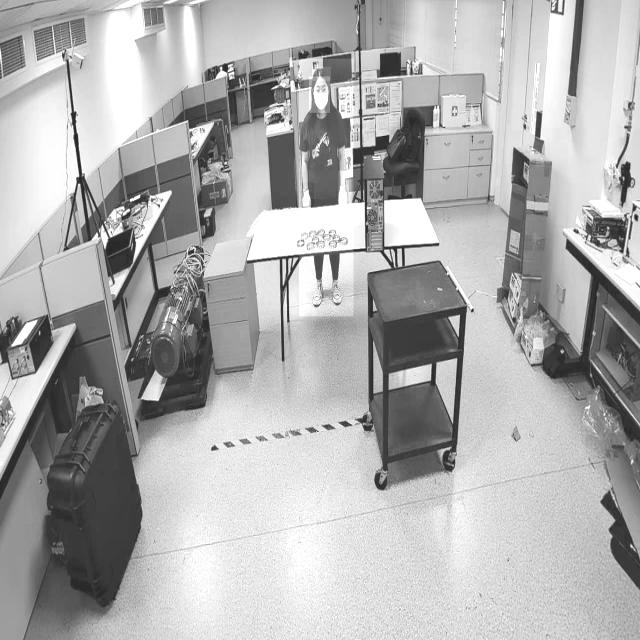face_mask: (309, 76, 330, 113)
hand_glove: (338, 170, 352, 210), (302, 182, 314, 209)
head_nohelmet: (311, 66, 331, 82)
person: (298, 59, 354, 317)
shoes: (329, 272, 345, 306), (312, 272, 324, 306)
